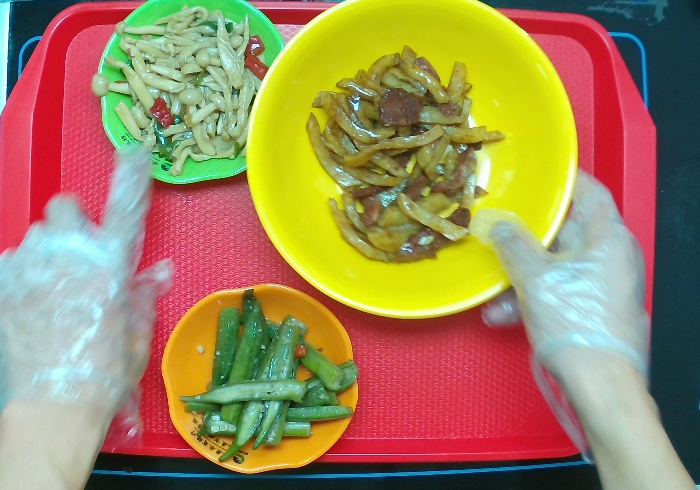YKMZ-Huang_Se_Tang_Wan: (239, 1, 575, 322)
YKMZ-Ju_Se_Ao_Bian_Wan: (156, 282, 360, 471)
YKMZ-Lv_Se_Ao_Bian_Wan: (91, 5, 283, 189)
